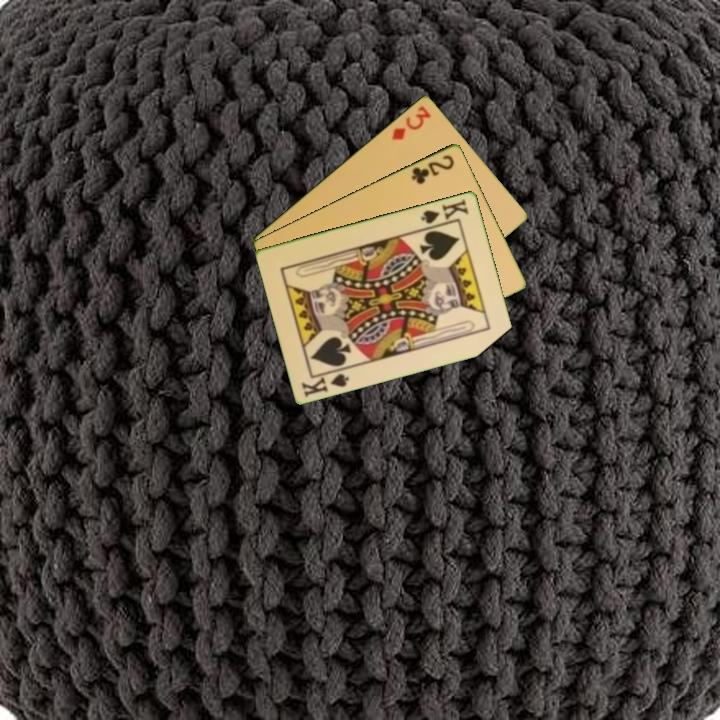2c: (408, 151, 457, 187)
3d: (388, 101, 434, 143)
Ks: (298, 364, 352, 400), (418, 195, 471, 230)
